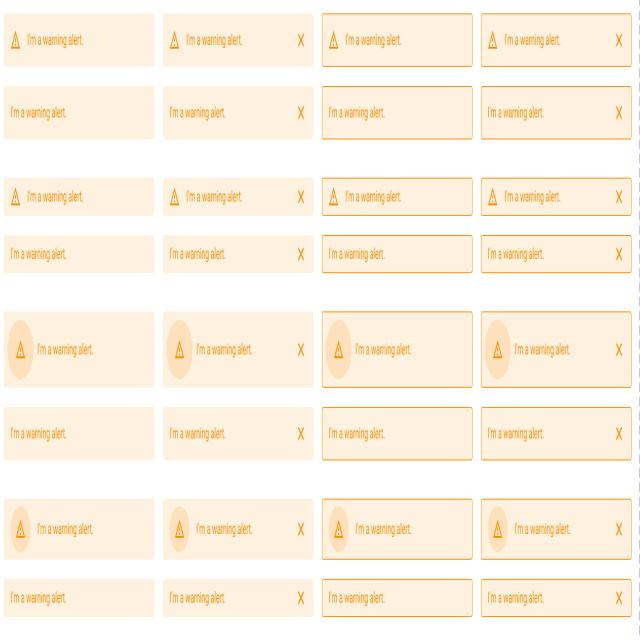QLabel: (194, 515, 253, 541), (186, 183, 244, 209), (194, 338, 254, 362), (168, 422, 227, 446), (354, 339, 412, 363), (168, 586, 226, 609), (344, 30, 402, 52), (327, 102, 385, 124), (354, 518, 412, 540), (487, 422, 544, 444), (169, 101, 227, 122), (328, 588, 386, 609), (487, 244, 545, 265), (168, 244, 228, 264), (185, 30, 244, 50), (488, 588, 544, 609), (36, 520, 94, 540), (328, 246, 386, 266), (10, 423, 67, 443), (10, 587, 67, 607), (345, 188, 402, 208), (328, 424, 385, 444), (487, 103, 544, 123), (514, 340, 571, 360), (504, 31, 561, 50), (504, 187, 560, 206), (27, 188, 84, 206), (10, 104, 67, 121), (514, 520, 571, 537), (11, 245, 66, 262), (26, 32, 84, 48), (36, 342, 94, 358)
VAlert: (162, 310, 314, 389), (481, 310, 632, 389), (3, 311, 155, 388), (322, 311, 473, 388), (162, 496, 314, 561), (322, 497, 473, 561), (481, 497, 632, 561), (3, 498, 155, 561), (322, 84, 474, 141), (3, 12, 155, 68), (162, 406, 314, 462), (163, 84, 314, 140), (322, 12, 473, 68), (481, 12, 632, 68), (481, 85, 632, 141), (481, 406, 632, 462), (3, 406, 155, 461), (321, 406, 473, 461), (162, 13, 315, 67), (3, 86, 155, 140), (162, 175, 315, 217), (162, 233, 315, 275), (162, 577, 314, 617), (322, 177, 473, 217), (322, 234, 473, 274), (322, 578, 473, 618), (481, 176, 632, 216), (481, 234, 632, 274), (481, 578, 632, 618), (4, 177, 154, 216), (4, 234, 154, 273), (4, 578, 154, 616)
